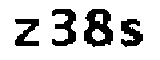3: (49, 6, 77, 50)
8: (84, 6, 113, 48)
s: (120, 17, 145, 47)
z: (9, 16, 42, 50)
